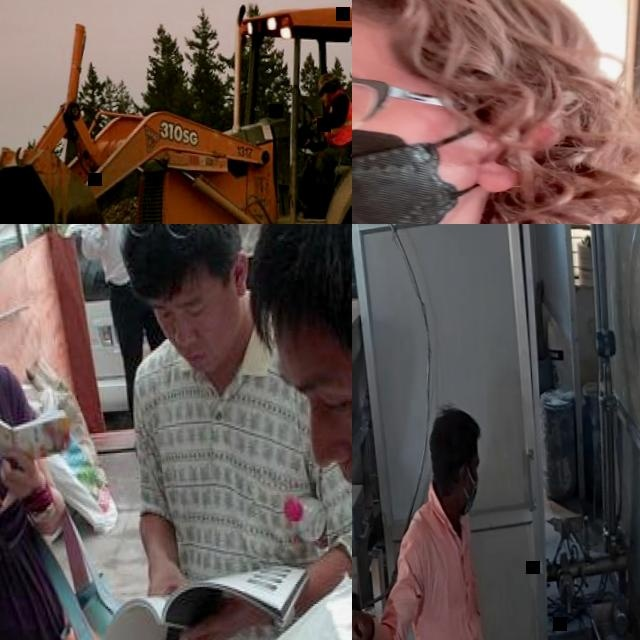Hardhat: (314, 70, 336, 91)
Mask: (352, 102, 510, 224), (461, 472, 478, 512)
NO-Hardhat: (237, 224, 352, 366), (352, 0, 568, 67), (110, 224, 247, 308), (426, 404, 481, 451)
NO-Mask: (178, 301, 247, 375), (312, 413, 352, 523), (320, 93, 332, 108)
NO-Safety Vest: (131, 335, 331, 640), (0, 363, 64, 640), (402, 504, 490, 640), (89, 224, 142, 285), (227, 224, 284, 259)
Person: (113, 224, 352, 640), (352, 0, 640, 224), (240, 224, 352, 640), (0, 224, 84, 640), (352, 401, 491, 640), (73, 224, 171, 425), (293, 67, 352, 220), (221, 224, 287, 286)
Safety Vest: (318, 88, 352, 145)
machinery: (0, 0, 352, 224)
vehicle: (60, 224, 158, 414)
